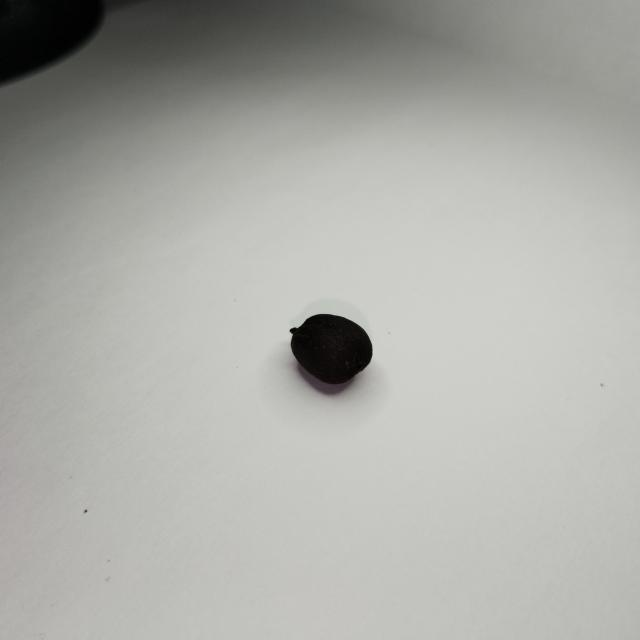Danado: (290, 314, 372, 385)
